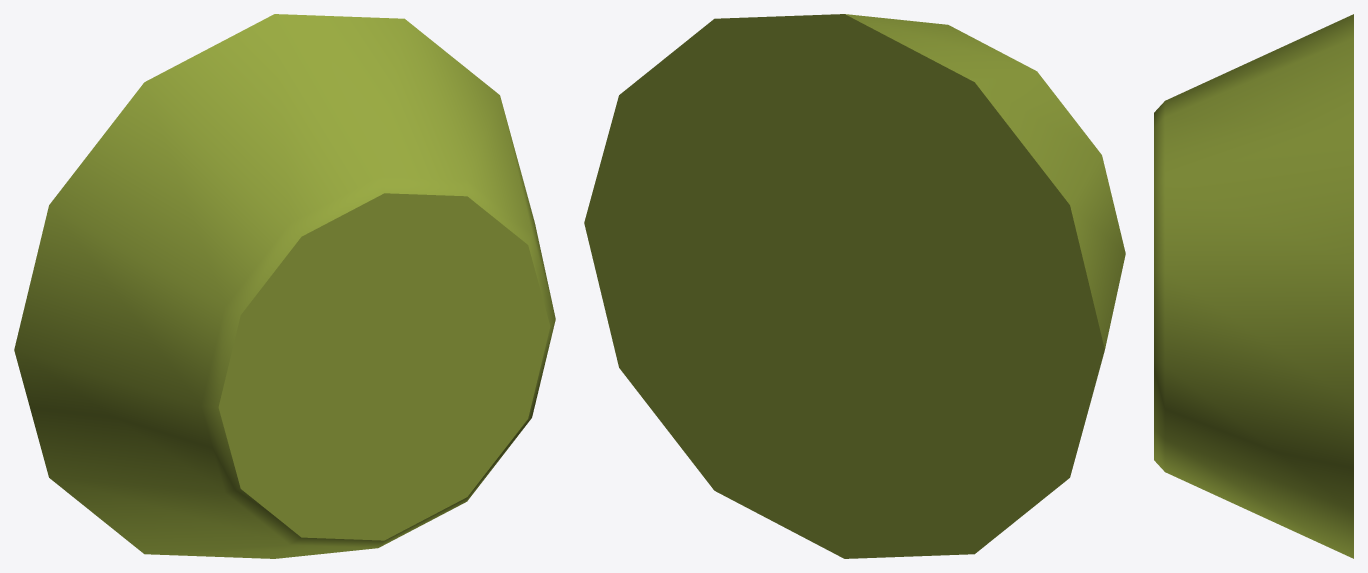
Rendered from Tarot_Card_Cable_Base_01.fbx.
The picture shows the model from 3 angles, left to right: view 1: azimuth 30°, elevation 25°; view 2: azimuth 150°, elevation 25°; view 3: azimuth 270°, elevation 25°; orthographic projection. The views are drawn at different scales.
Visible parts, largest first — view 1: Tarot_Card_Cable_Base_01; view 2: Tarot_Card_Cable_Base_01; view 3: Tarot_Card_Cable_Base_01.
Boxes of the visible parts, x1=… form: Tarot_Card_Cable_Base_01: x1=14, y1=14, x2=555, y2=558; Tarot_Card_Cable_Base_01: x1=584, y1=14, x2=1125, y2=558; Tarot_Card_Cable_Base_01: x1=1154, y1=14, x2=1353, y2=558.
Bounding box in the file's own units: 3.58 × 3.58 × 1.31.
